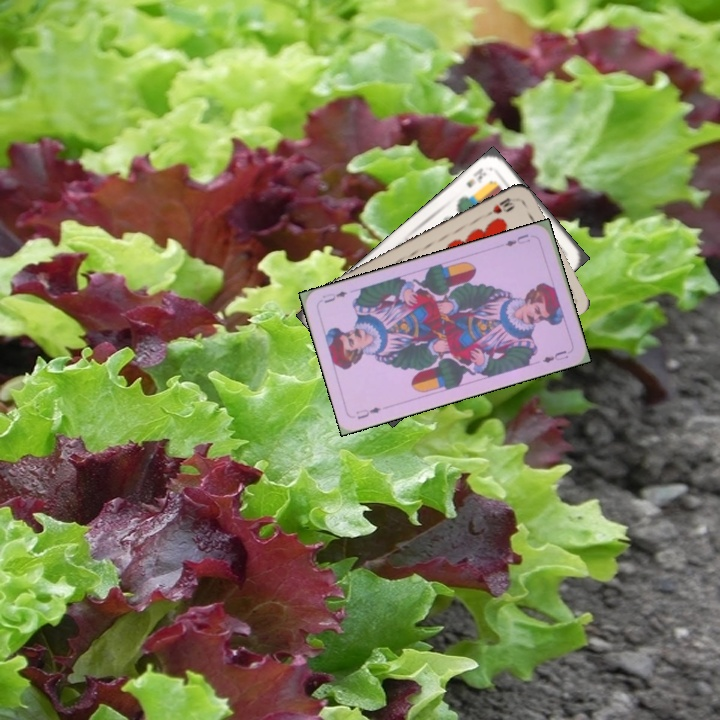EK: (462, 163, 489, 190)
EU: (497, 230, 532, 249), (352, 403, 383, 422)
H10: (480, 194, 516, 220)
